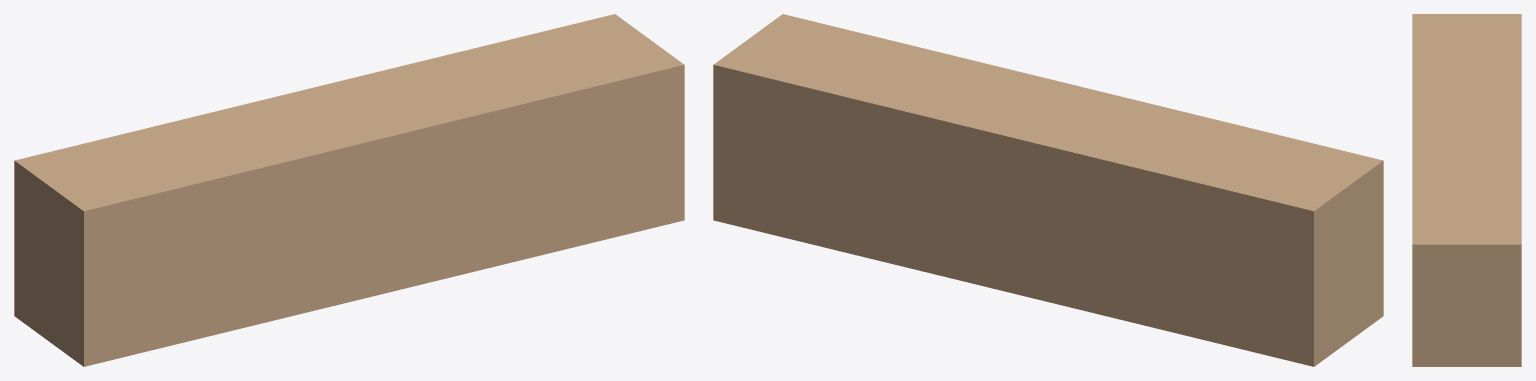
Rendered from media_console_06.glb.
The picture shows the model from 3 angles, left to right: view 1: azimuth 30°, elevation 25°; view 2: azimuth 150°, elevation 25°; view 3: azimuth 270°, elevation 25°; orthographic projection. The views are drawn at different scales.
Bounding box in the file's own units: 2.1 × 0.52 × 0.42.
